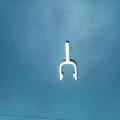u-shape: (57, 40, 78, 82)
